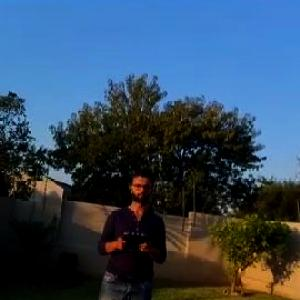follow: (86, 158, 174, 299)
